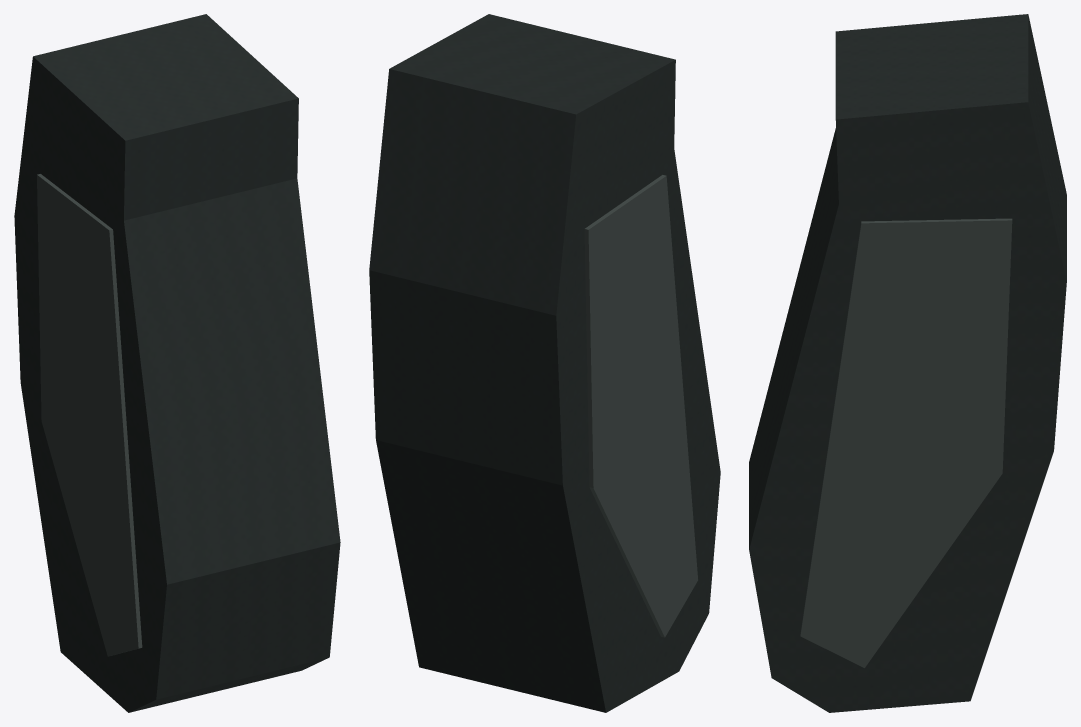
Rendered from val_grip.glb.
3 views of the same model, side by side, from view 1: azimuth 30°, elevation 25°; view 2: azimuth 150°, elevation 25°; view 3: azimuth 270°, elevation 25° (orthographic). The views are drawn at different scales.
Parts seen in each view (by area): view 1: val_grip_item_profile, val_grip_item_profile.001, val_grip_molded_panel; view 2: val_grip_item_profile, val_grip_item_profile.001, val_grip_molded_panel; view 3: val_grip_item_profile, val_grip_molded_panel, val_grip_item_profile.001.
Boxes of the visible parts, x1=… form: val_grip_item_profile: x1=17, y1=30, x2=333, y2=709; val_grip_item_profile.001: x1=14, y1=14, x2=340, y2=712; val_grip_molded_panel: x1=37, y1=174, x2=142, y2=656; val_grip_item_profile: x1=376, y1=18, x2=717, y2=701; val_grip_item_profile.001: x1=369, y1=14, x2=720, y2=712; val_grip_molded_panel: x1=584, y1=175, x2=697, y2=637; val_grip_item_profile: x1=749, y1=20, x2=1066, y2=703; val_grip_molded_panel: x1=800, y1=218, x2=1012, y2=667; val_grip_item_profile.001: x1=749, y1=14, x2=1066, y2=712.
Bounding box in the file's own units: 0.0678 × 0.21 × 0.099.
Materials: 2 (1 with a texture image).
